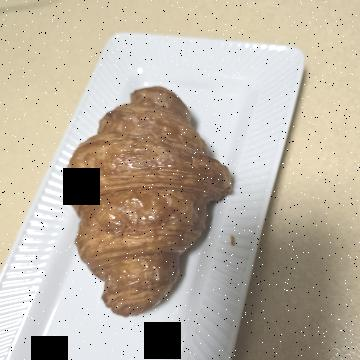croissant: (64, 129, 321, 313)
